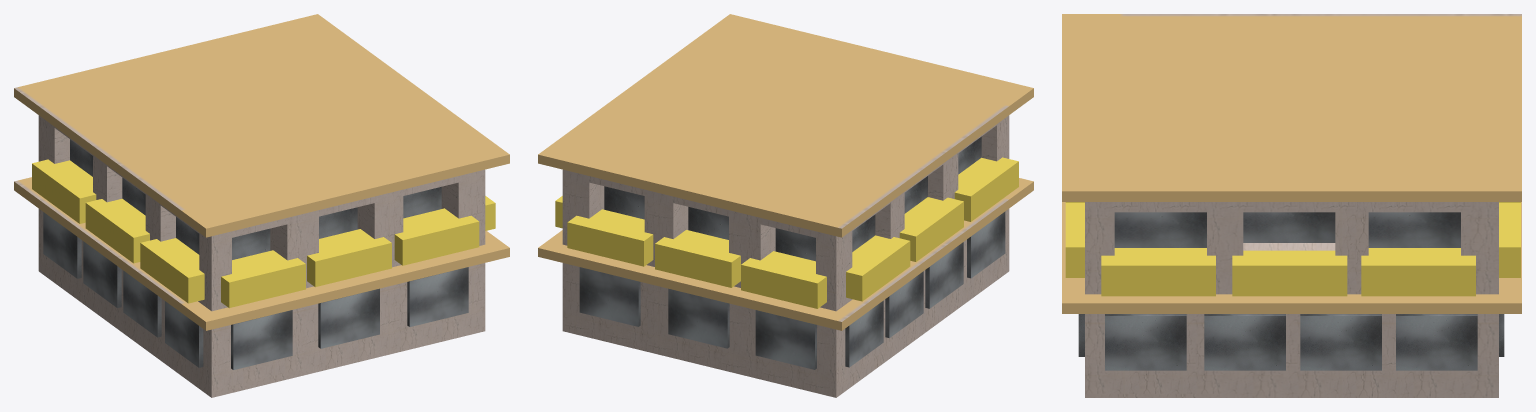
The model's file is SmallBuilding_NoDoors.fbx.
The picture shows the model from 3 angles, left to right: view 1: azimuth 30°, elevation 25°; view 2: azimuth 150°, elevation 25°; view 3: azimuth 270°, elevation 25°; orthographic projection. The views are drawn at different scales.
Visible parts, largest first — view 1: pCube386; view 2: pCube386; view 3: pCube386.
Boxes of the visible parts, x1,y1,x2,y2 form: pCube386: (14, 14, 509, 397); pCube386: (538, 14, 1033, 397); pCube386: (1062, 14, 1521, 397).
Size of the model in its own units: 16.36 by 9.16 by 17.72.
